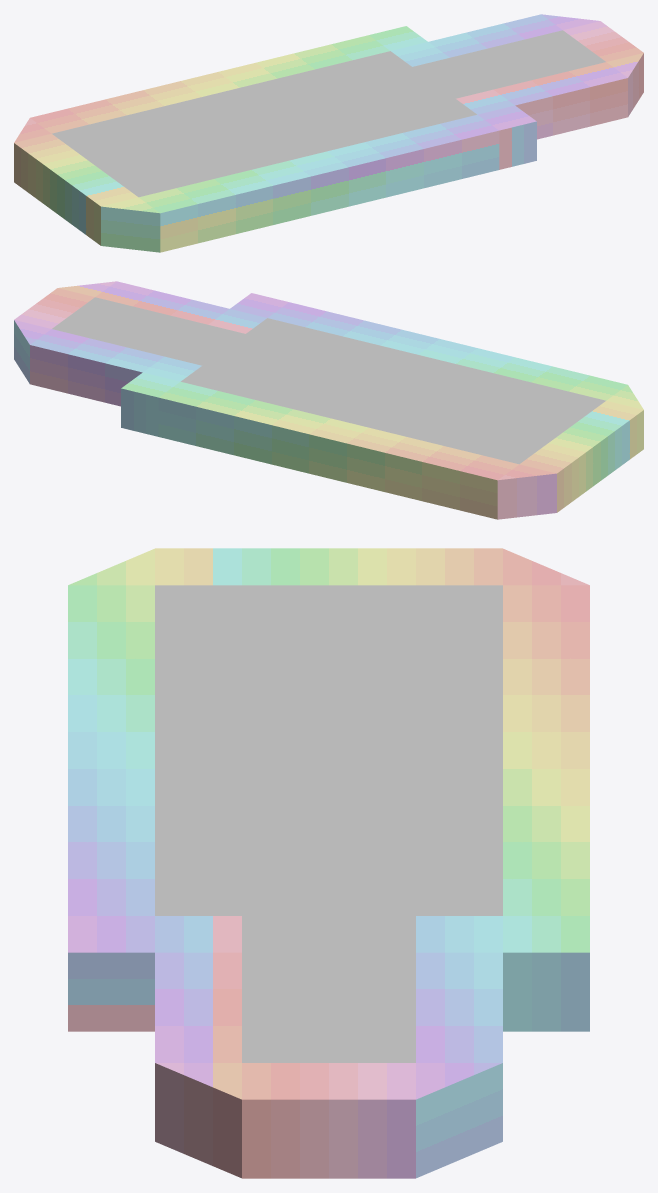
File: conjured_anvil.obj
3 renders of one model, top to bottom at view 1: azimuth 30°, elevation 25°; view 2: azimuth 150°, elevation 25°; view 3: azimuth 270°, elevation 25°, orthographic. The views are drawn at different scales.
Parts seen in each view (by area): view 1: ANVIL_Cube.003; view 2: ANVIL_Cube.003; view 3: ANVIL_Cube.003.
Boxes of the visible parts, x1,y1,x2,y2 form: ANVIL_Cube.003: [14, 14, 643, 252]; ANVIL_Cube.003: [14, 281, 643, 519]; ANVIL_Cube.003: [68, 548, 589, 1178].
Bounding box in the file's own units: 0.9375 × 0.0625 × 0.375.
